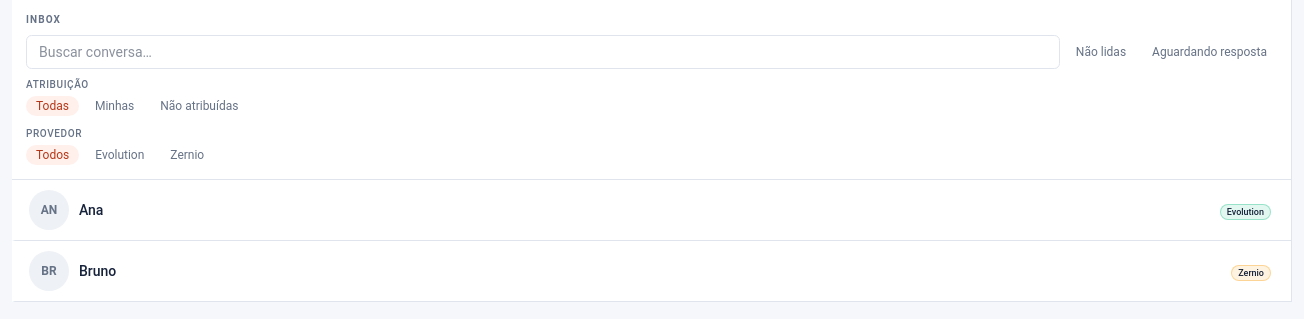
ConversationsList provider filter (F4b) › hides the provider badge once a specific provider tab is selected
Step 1. Click the button "Zernio" → point(187, 155), box [160,145,214,165]
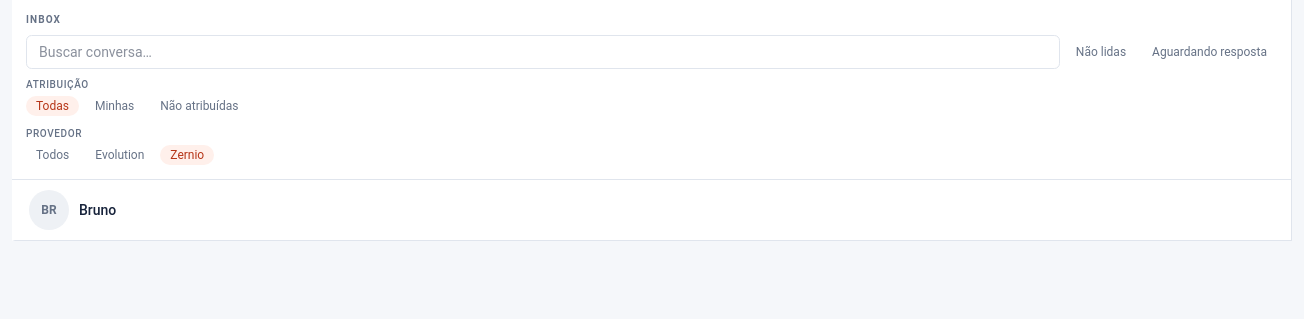
Check: the number of buttons "Zernio" is 1, box [160,145,214,165]
